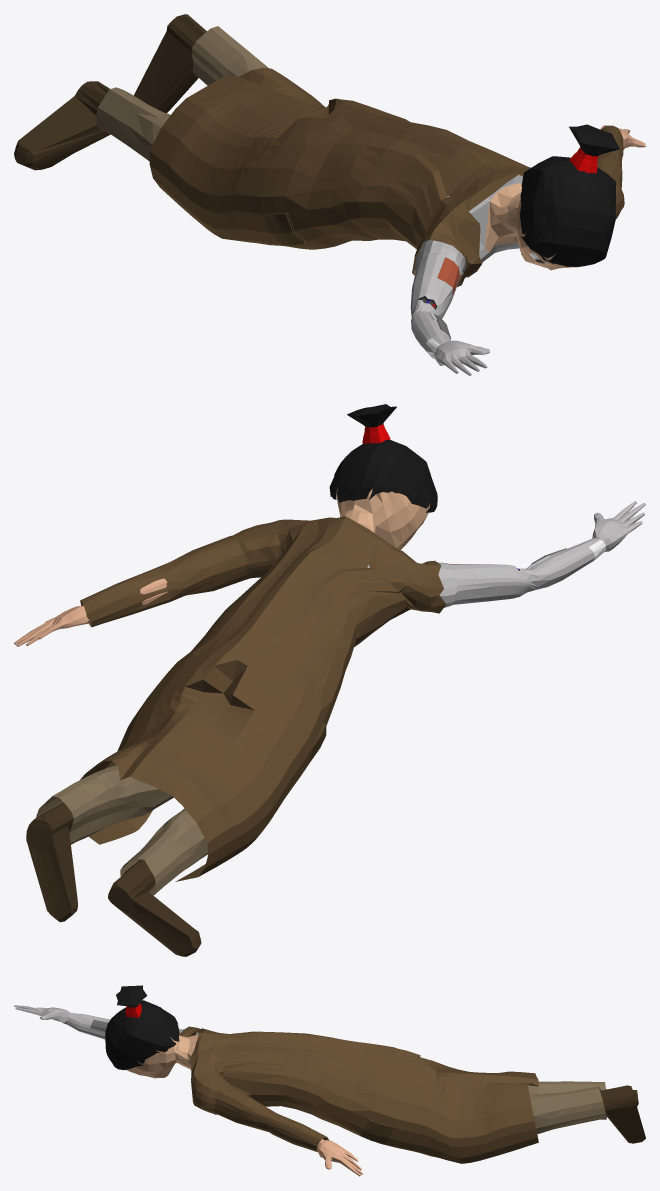
The model's file is One_Die_000048.obj.
3 views of the same model, one above another, from view 1: azimuth 30°, elevation 25°; view 2: azimuth 150°, elevation 25°; view 3: azimuth 270°, elevation 25° (orthographic). The views are drawn at different scales.
Parts seen in each view (by area): view 1: Hair_Cube.004; view 2: Hair_Cube.004; view 3: Hair_Cube.004.
Part boxes in pixels (left/top/right/bottom): Hair_Cube.004: left=14, top=14, right=645, bottom=375; Hair_Cube.004: left=14, top=404, right=645, bottom=956; Hair_Cube.004: left=14, top=985, right=645, bottom=1176.
Bounding box in the file's own units: 2.29 × 1.4 × 4.51.
